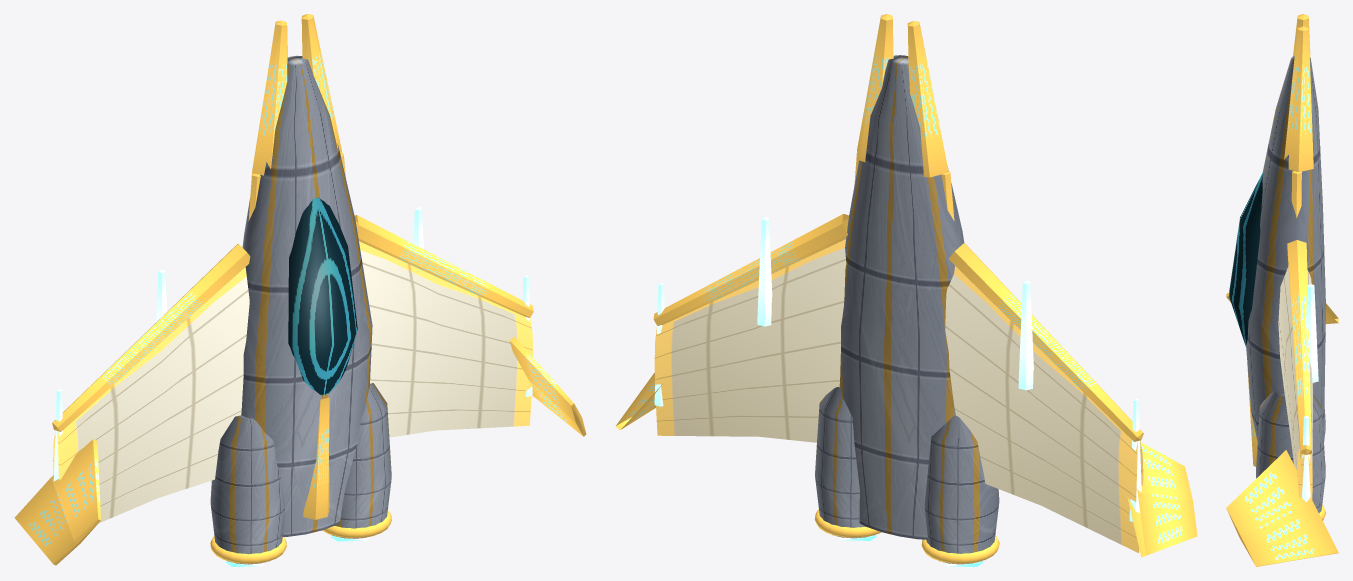
Rendered from ship_c1_star_glider.glb.
3 views of the same model, side by side, from view 1: azimuth 30°, elevation 25°; view 2: azimuth 150°, elevation 25°; view 3: azimuth 270°, elevation 25° (orthographic). The views are drawn at different scales.
Parts seen in each view (by area): view 1: ship_c1_star_glider; view 2: ship_c1_star_glider; view 3: ship_c1_star_glider.
Part boxes in pixels (bbox=[...]): ship_c1_star_glider: bbox=[14, 14, 586, 566]; ship_c1_star_glider: bbox=[615, 14, 1197, 566]; ship_c1_star_glider: bbox=[1226, 14, 1338, 566].
Bounding box in the file's own units: 3.66 × 3.48 × 0.7259.
5 materials, 5 textured.
